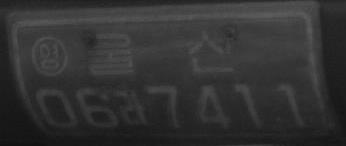0: (34, 87, 77, 128)
1: (268, 80, 306, 131), (231, 82, 266, 131)
4: (196, 84, 229, 130)
6: (77, 86, 119, 130)
7: (151, 84, 180, 129)
라: (119, 88, 150, 128)
영: (31, 34, 68, 76)
울산_D: (86, 26, 237, 77)
